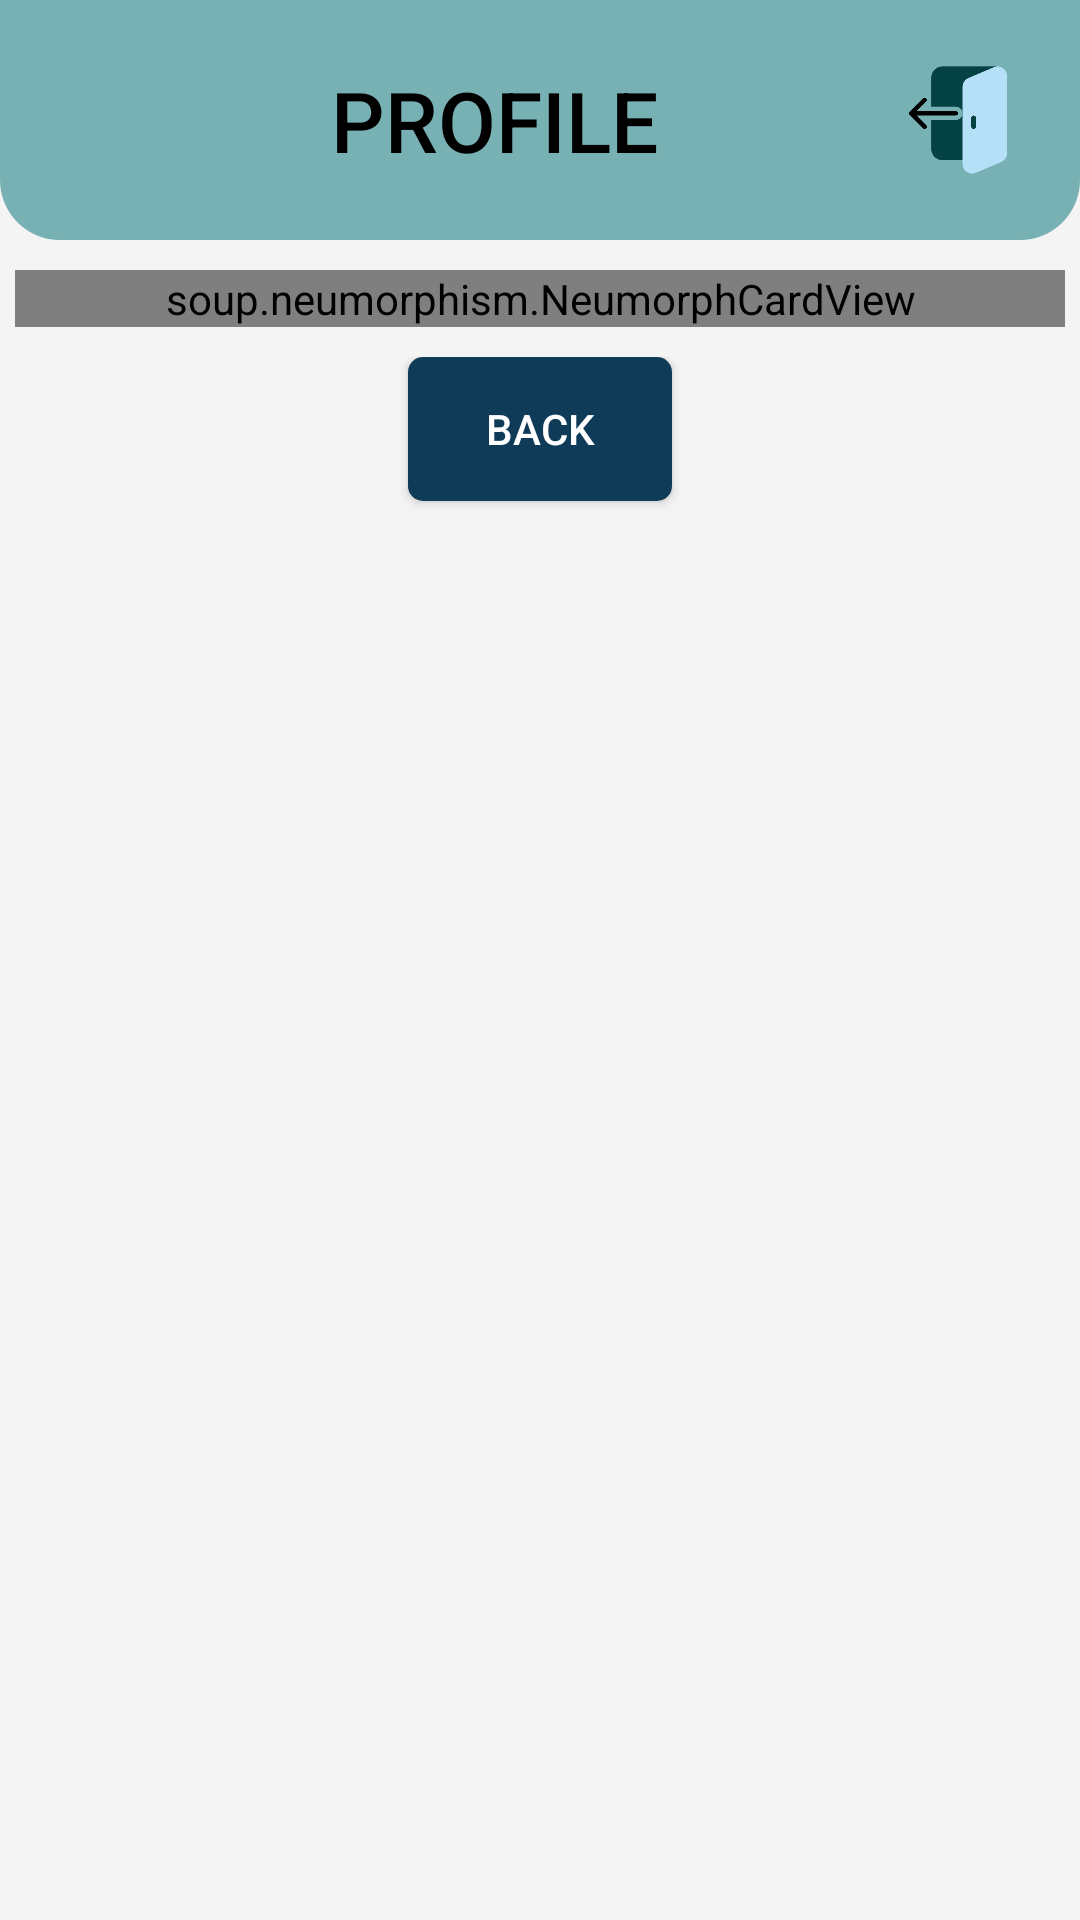

Locate icon controls on the screen. Image size 1080w x 1920h, boxes as (x1, y1, x2, y2).
logut: (909, 66, 1007, 174)
